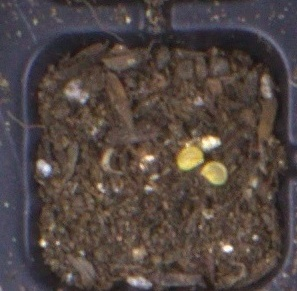chilli seed: (177, 146, 204, 171), (201, 162, 228, 186)
